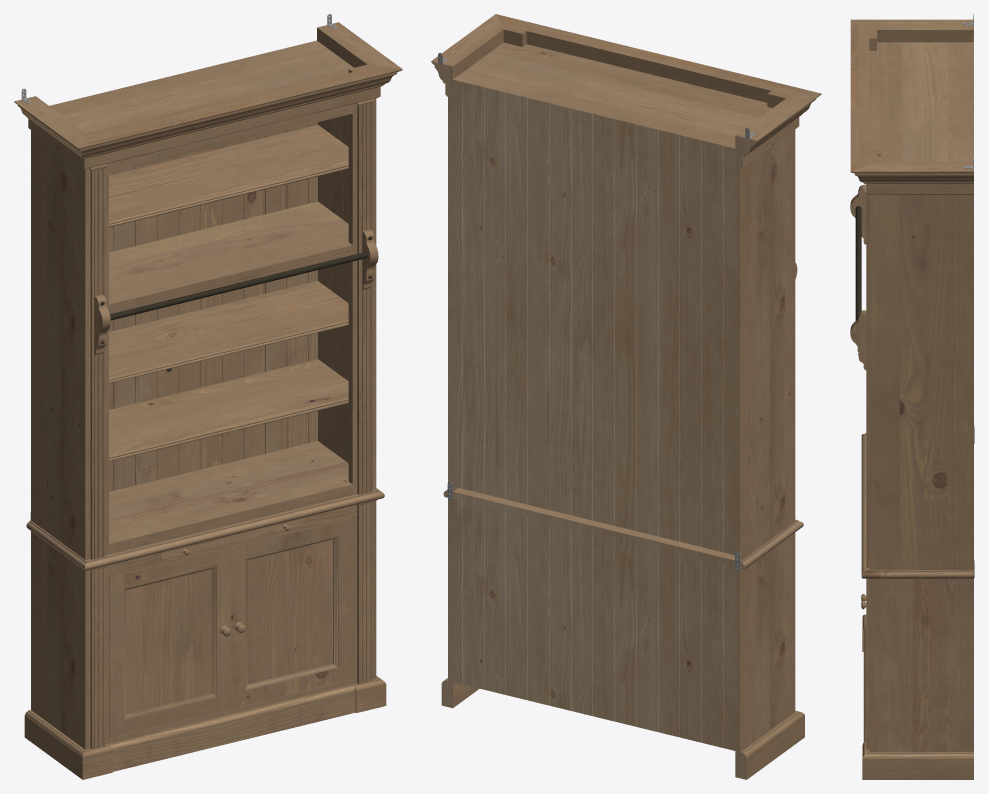
3 views of the same model, side by side, from view 1: azimuth 30°, elevation 25°; view 2: azimuth 150°, elevation 25°; view 3: azimuth 270°, elevation 25° (orthographic). The views are drawn at different scales.
Parts seen in each view (by area): view 1: Object_5, Object_2; view 2: Object_4, Object_5; view 3: Object_5, Object_2.
Boxes of the visible parts, x1,y1,x2,y2 form: Object_5: [14, 22, 402, 779]; Object_2: [100, 236, 371, 344]; Object_4: [431, 61, 756, 779]; Object_5: [431, 14, 821, 779]; Object_5: [850, 19, 973, 779]; Object_2: [855, 190, 861, 355].
Size of the model in its own units: 131 by 249 by 45.
4 materials, 3 textured.
